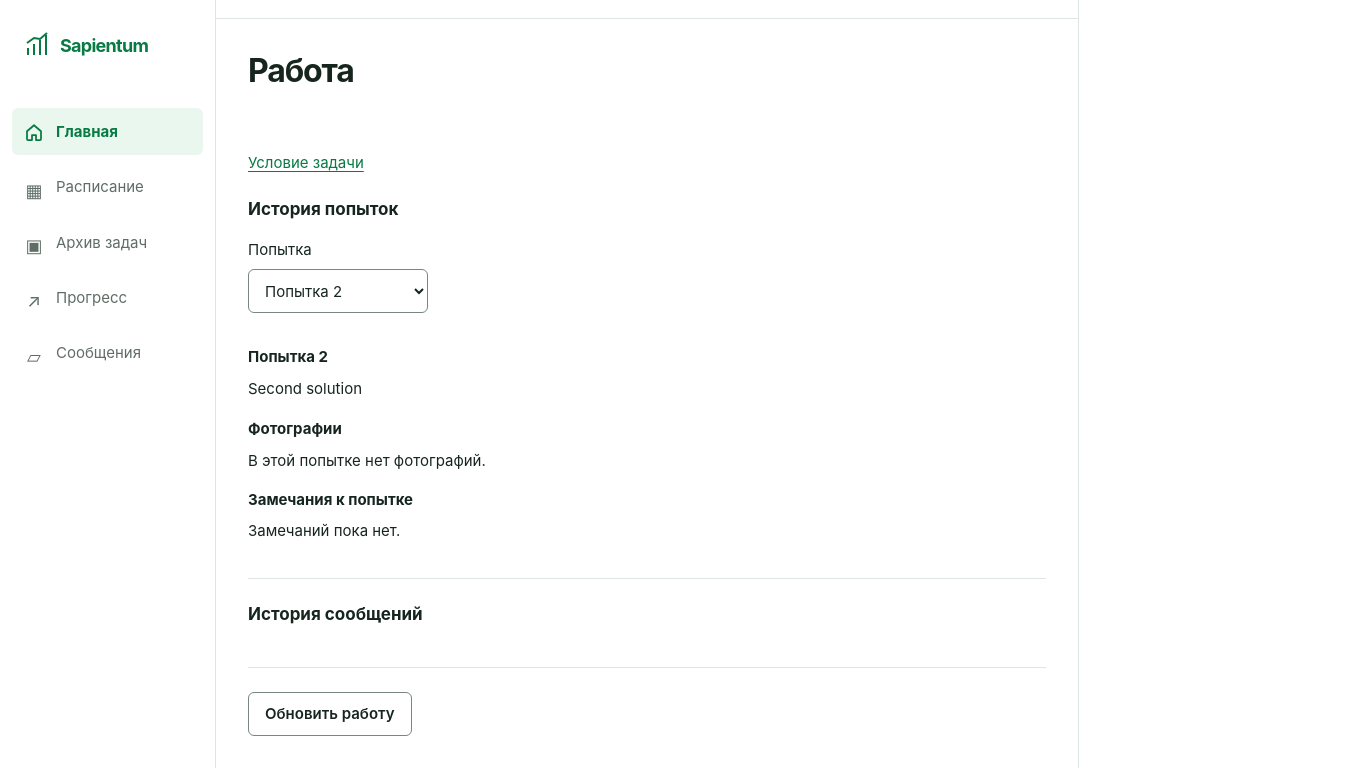
isolated protected work › clears prior private content after denial 401
The width and height of the screenshot is (1366, 768).
(page scrolled)
Check: the text "Second solution" is shown, box x1=248 y1=378 x2=362 y2=398
Click the button "Обновить работу".
click(330, 714)  # box x1=248 y1=692 x2=412 y2=736
(page scrolled)
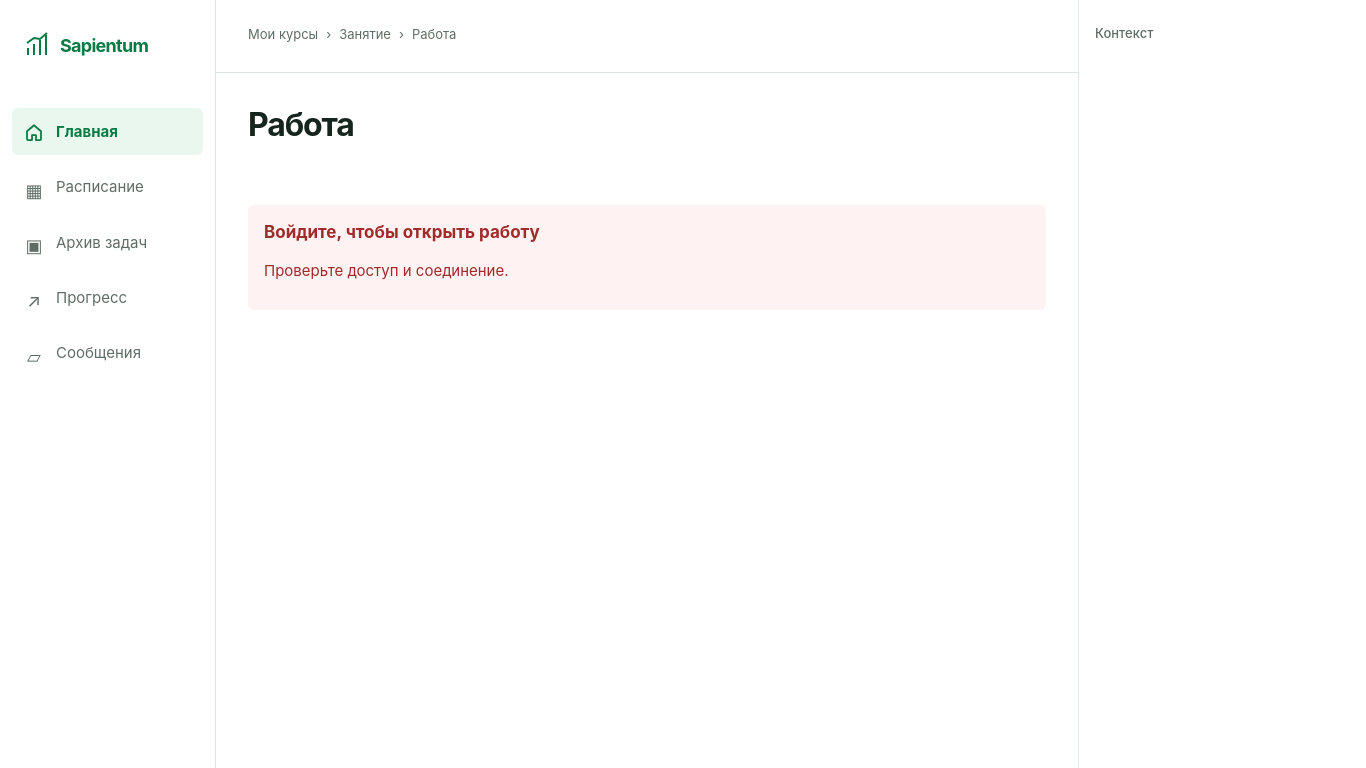
Check: the heading "Войдите, чтобы открыть работу" is shown, box x1=264 y1=222 x2=540 y2=242
Check: the text "Second solution" is gone
